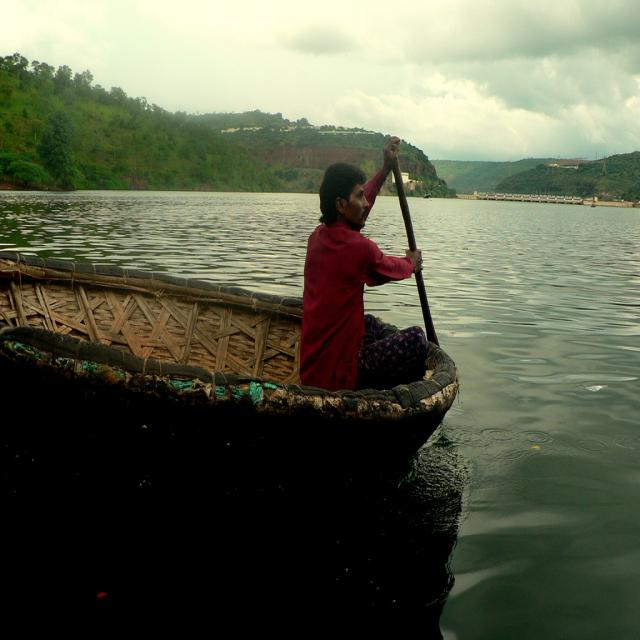Person: (299, 135, 424, 390)
